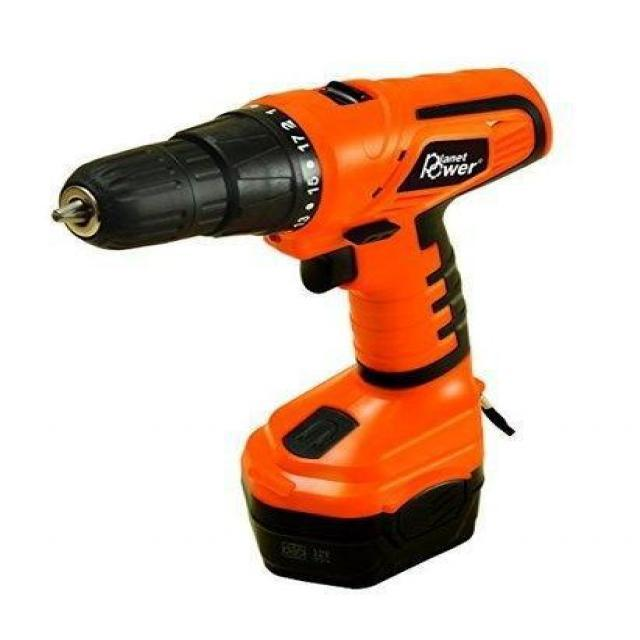drill: (52, 67, 554, 590)
